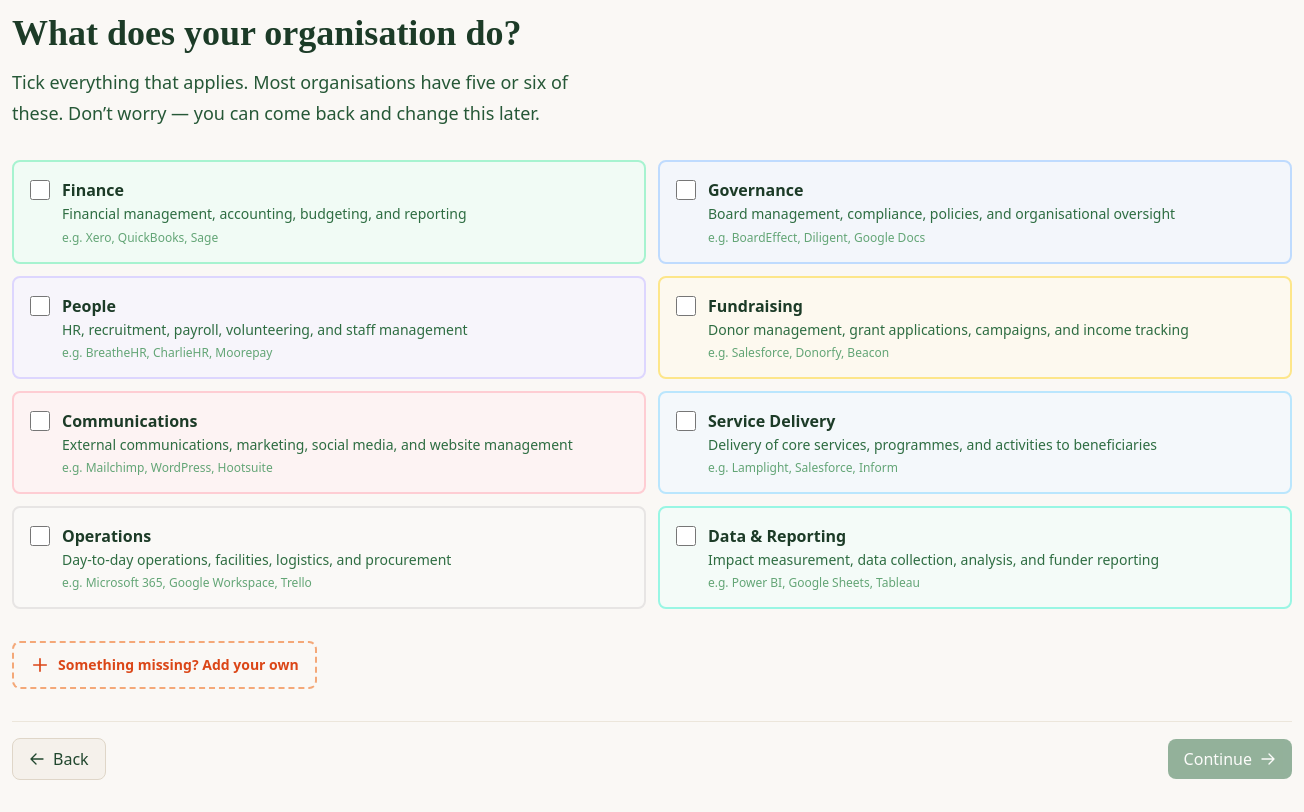
Test case: FunctionPicker › removes a custom function
# Add a custom function
Click the button "Something missing? Add your own" at (164, 665), box [12,641,317,689]
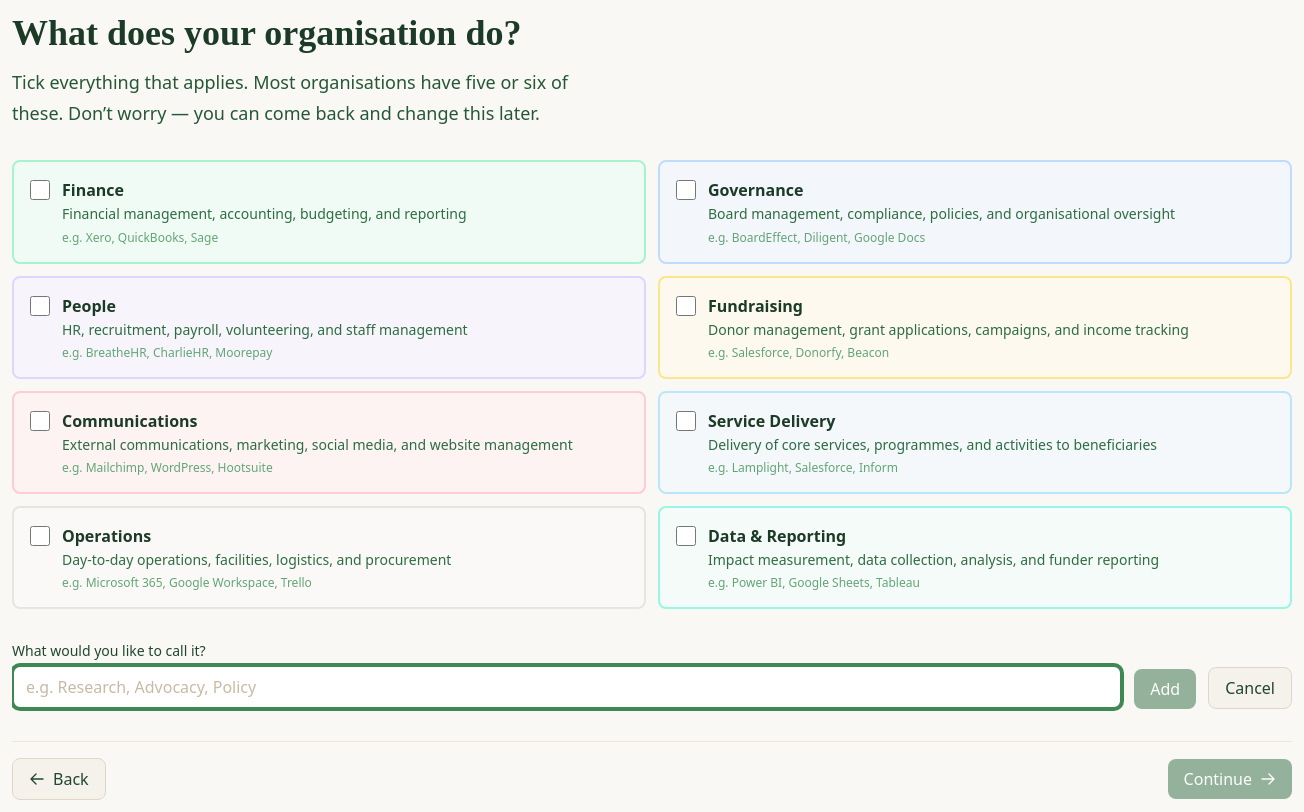
Type "Research" into the field labelled "What would you like to call it?" at (567, 687), box [12,665,1122,709]
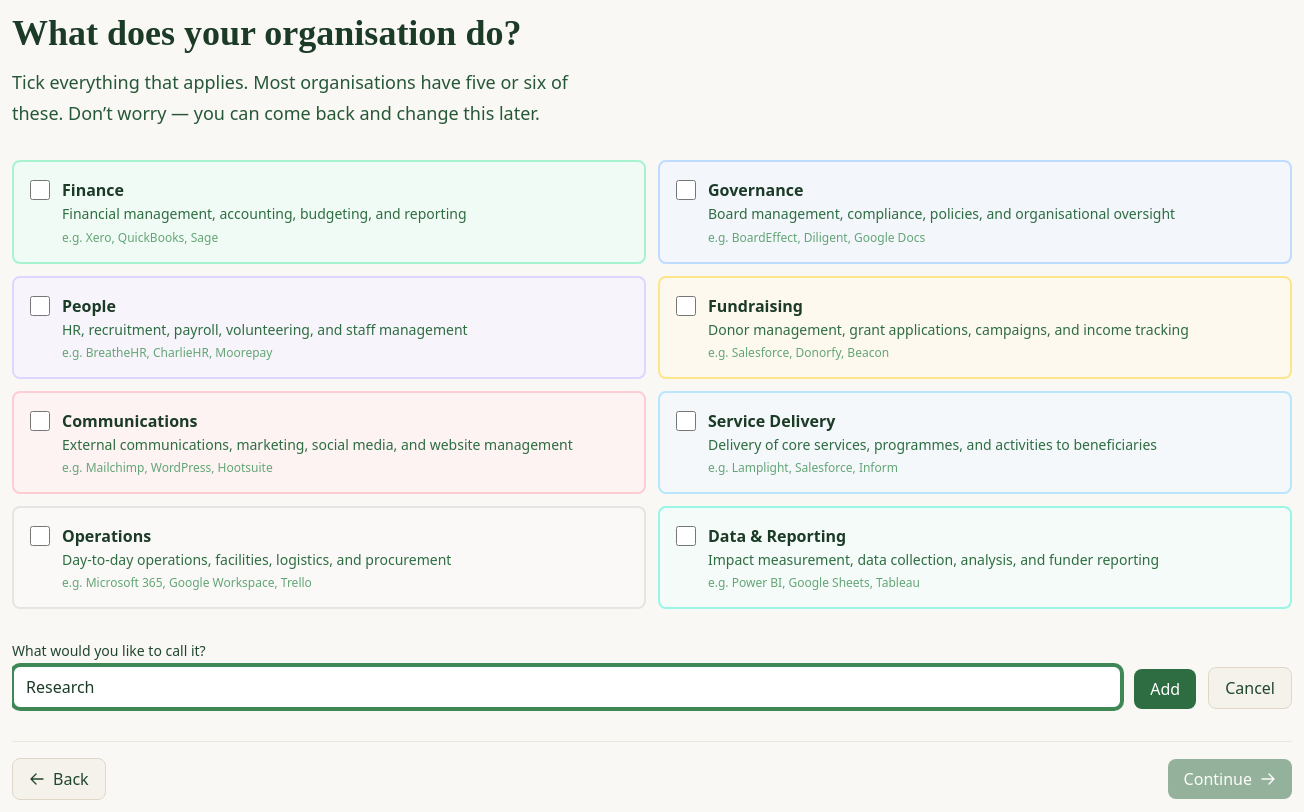
Click the button "Add" at (1165, 689), box [1134,669,1196,709]
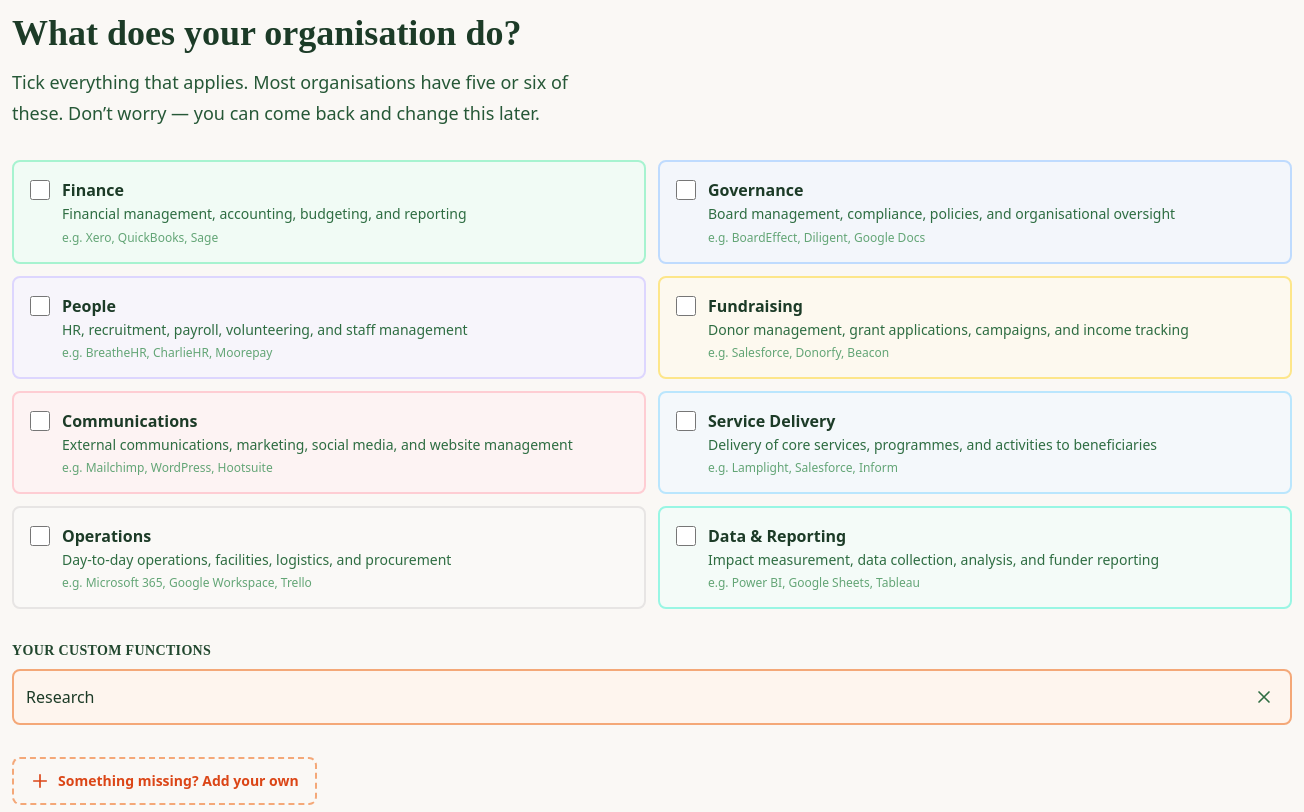
Check: the text "Research" is shown, box [26,685,94,709]
# Remove it
Click the button named "remove research" at (1264, 697), box [1250,683,1278,711]
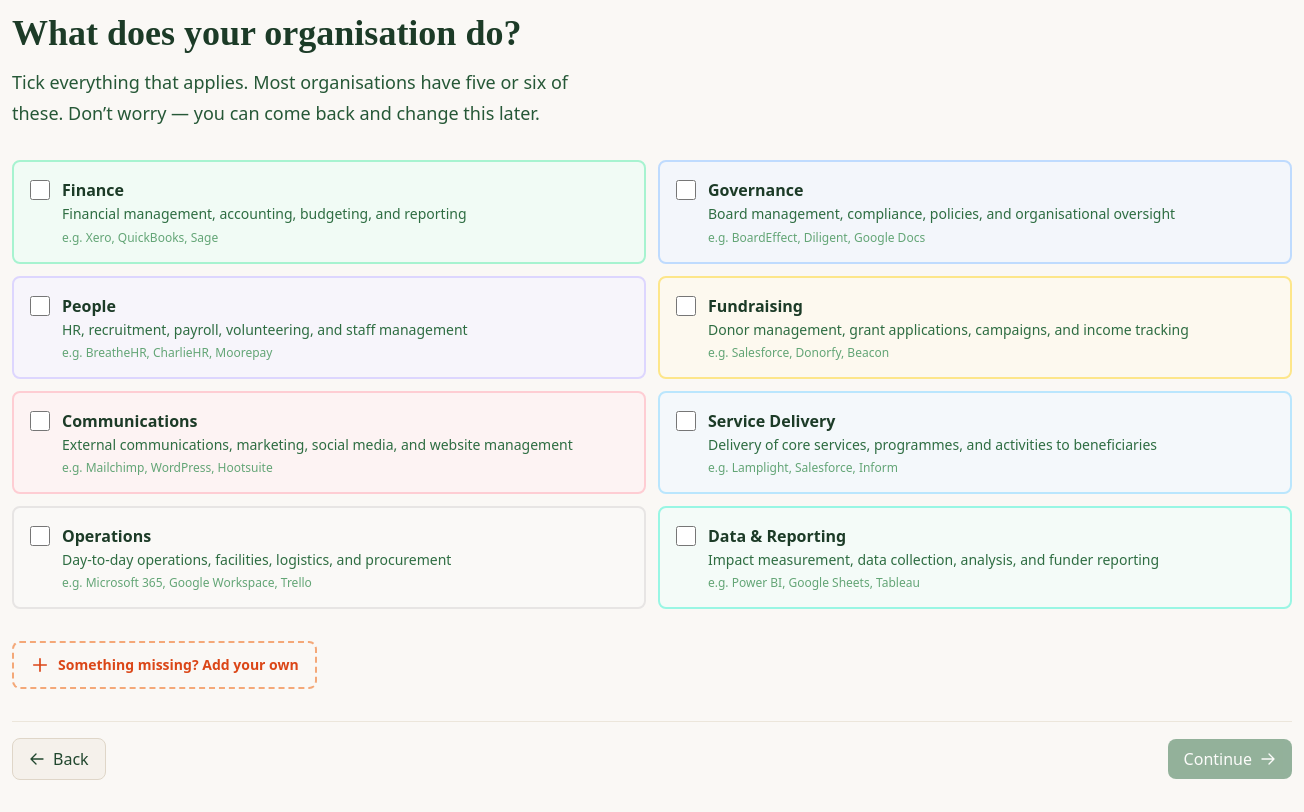
Check: the text "Research" is gone
